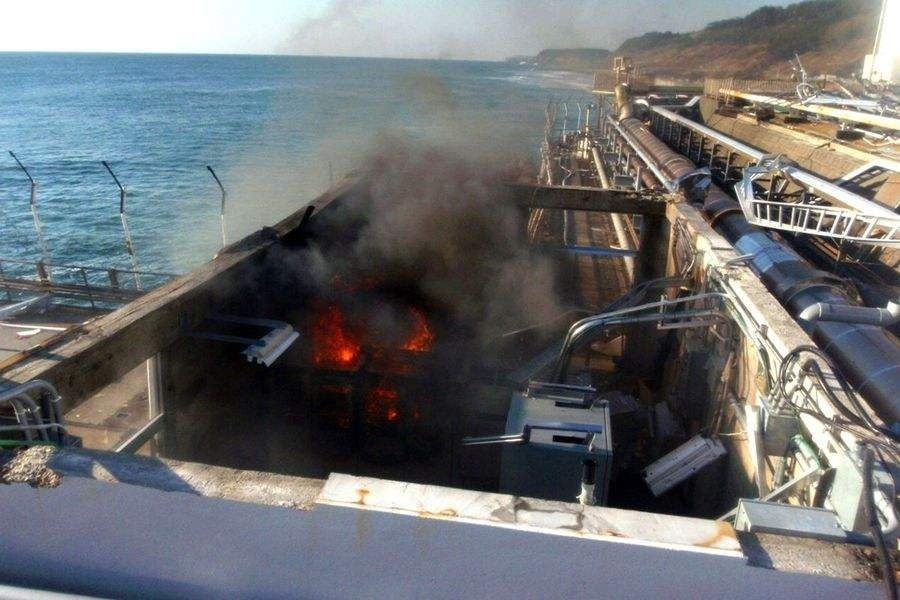fire: (311, 304, 433, 424)
